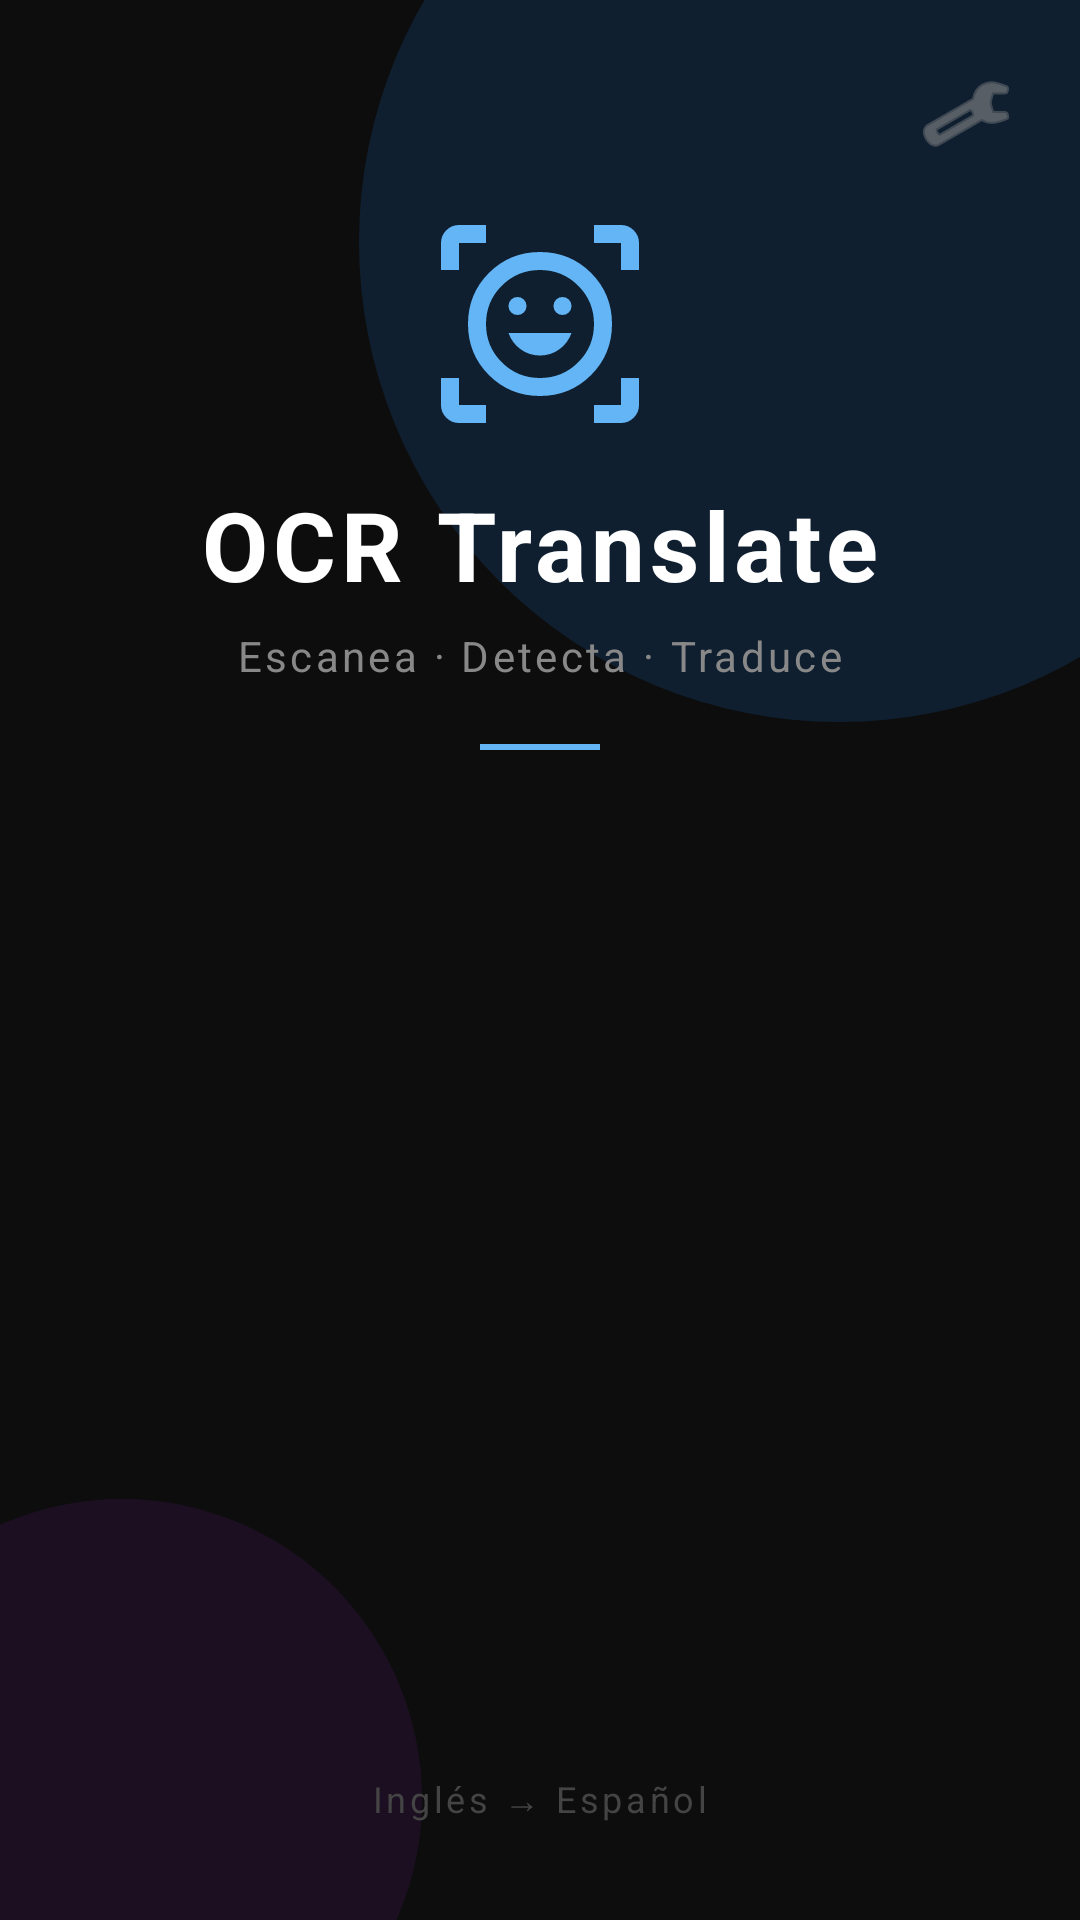

Locate icon controls on the screen. Image size 1080x1920, boxes as box(x1, y1, x2, y2).
Ajustes: box(923, 81, 1009, 147)
ar on you: box(441, 225, 639, 423)
